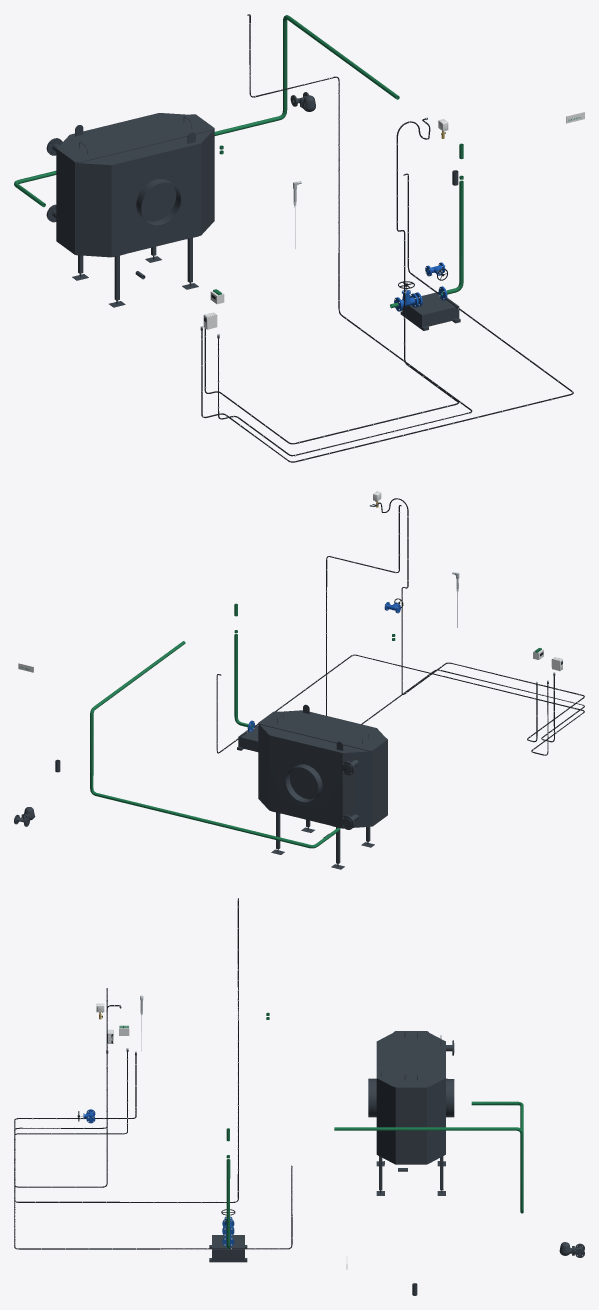
The model's file is s4000-2-BAnVUT5K.glb.
3 renders of one model, top to bottom at view 1: azimuth 30°, elevation 25°; view 2: azimuth 150°, elevation 25°; view 3: azimuth 270°, elevation 25°, orthographic. The views are drawn at different scales.
Visible parts, largest first — view 1: EQS2-3000 CAD 0, EQS2-3000 CAD 3, EQS2-3000 CAD 1, to_economizer / green, gpz_drive_cable / black, wiring_pump_2 / black, wiring_pressure_switch_3 / black, pump_branch_1 / dark, pump_branch_1 / green; view 2: EQS2-3000 CAD 0, EQS2-3000 CAD 3, EQS2-3000 CAD 2, to_economizer / green, wiring_pressure_switch_3 / black, gpz_drive_cable / black, wiring_pump_2 / black; view 3: EQS2-3000 CAD 3, to_economizer / green, EQS2-3000 CAD 0, wiring_pump_2 / black, wiring_pressure_switch_3 / black, gpz_drive_cable / black, pump_branch_1 / dark.
Boxes of the visible parts, box(x1,y1,x2,y2) form: EQS2-3000 CAD 0: box(72, 143, 201, 307); EQS2-3000 CAD 3: box(56, 113, 214, 254); EQS2-3000 CAD 1: box(75, 163, 111, 257); to_economizer / green: box(14, 15, 399, 207); gpz_drive_cable / black: box(218, 14, 472, 456); wiring_pump_2 / black: box(201, 173, 573, 462); wiring_pressure_switch_3 / black: box(204, 118, 458, 444); pump_branch_1 / dark: box(400, 292, 460, 330); pump_branch_1 / green: box(390, 143, 463, 308); EQS2-3000 CAD 0: box(269, 735, 374, 869); EQS2-3000 CAD 3: box(258, 704, 387, 825); EQS2-3000 CAD 2: box(340, 751, 372, 829); to_economizer / green: box(90, 641, 339, 848); wiring_pressure_switch_3 / black: box(371, 498, 584, 742); gpz_drive_cable / black: box(326, 505, 584, 742); wiring_pump_2 / black: box(216, 654, 584, 755); EQS2-3000 CAD 3: box(376, 1031, 445, 1164); to_economizer / green: box(334, 1101, 523, 1213); EQS2-3000 CAD 0: box(368, 1078, 454, 1195); wiring_pump_2 / black: box(14, 1052, 292, 1249); wiring_pressure_switch_3 / black: box(14, 988, 136, 1187); gpz_drive_cable / black: box(14, 898, 238, 1202); pump_branch_1 / dark: box(209, 1235, 247, 1262).
Size of the model in its own units: 5.92 by 3.71 by 6.74.
